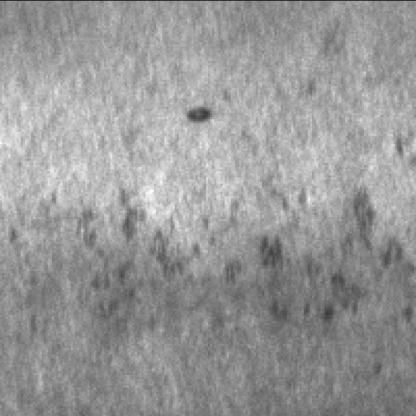rolled-in_scale: (81, 177, 399, 318)
